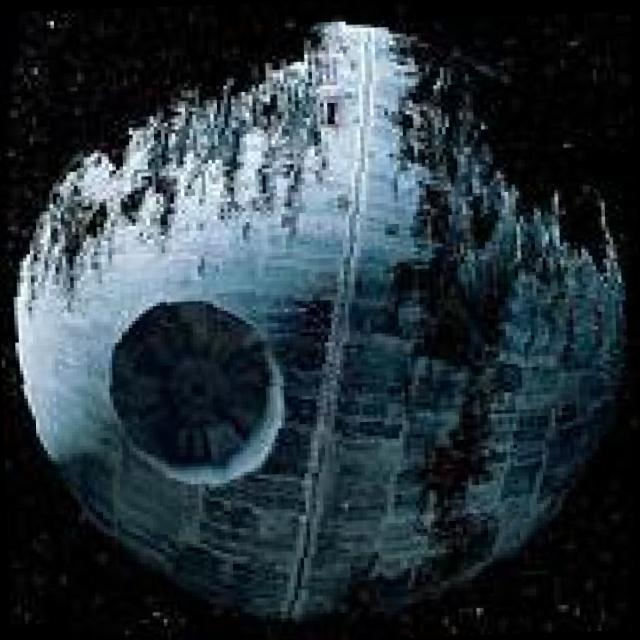Death Star: (6, 9, 634, 630)
